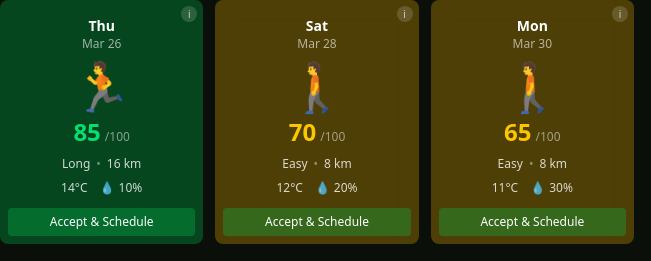
Test: RunSuggestions › accept functionality › shows success state after successful accept
The width and height of the screenshot is (651, 261).
Step 1. Click the button with test id "accept-button" → x=102, y=222, box [8, 208, 195, 236]
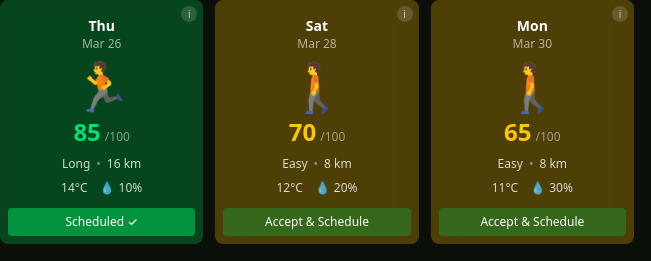
Expected: the button with test id "accept-button" reads "Scheduled ✓", [8, 208, 195, 236]
